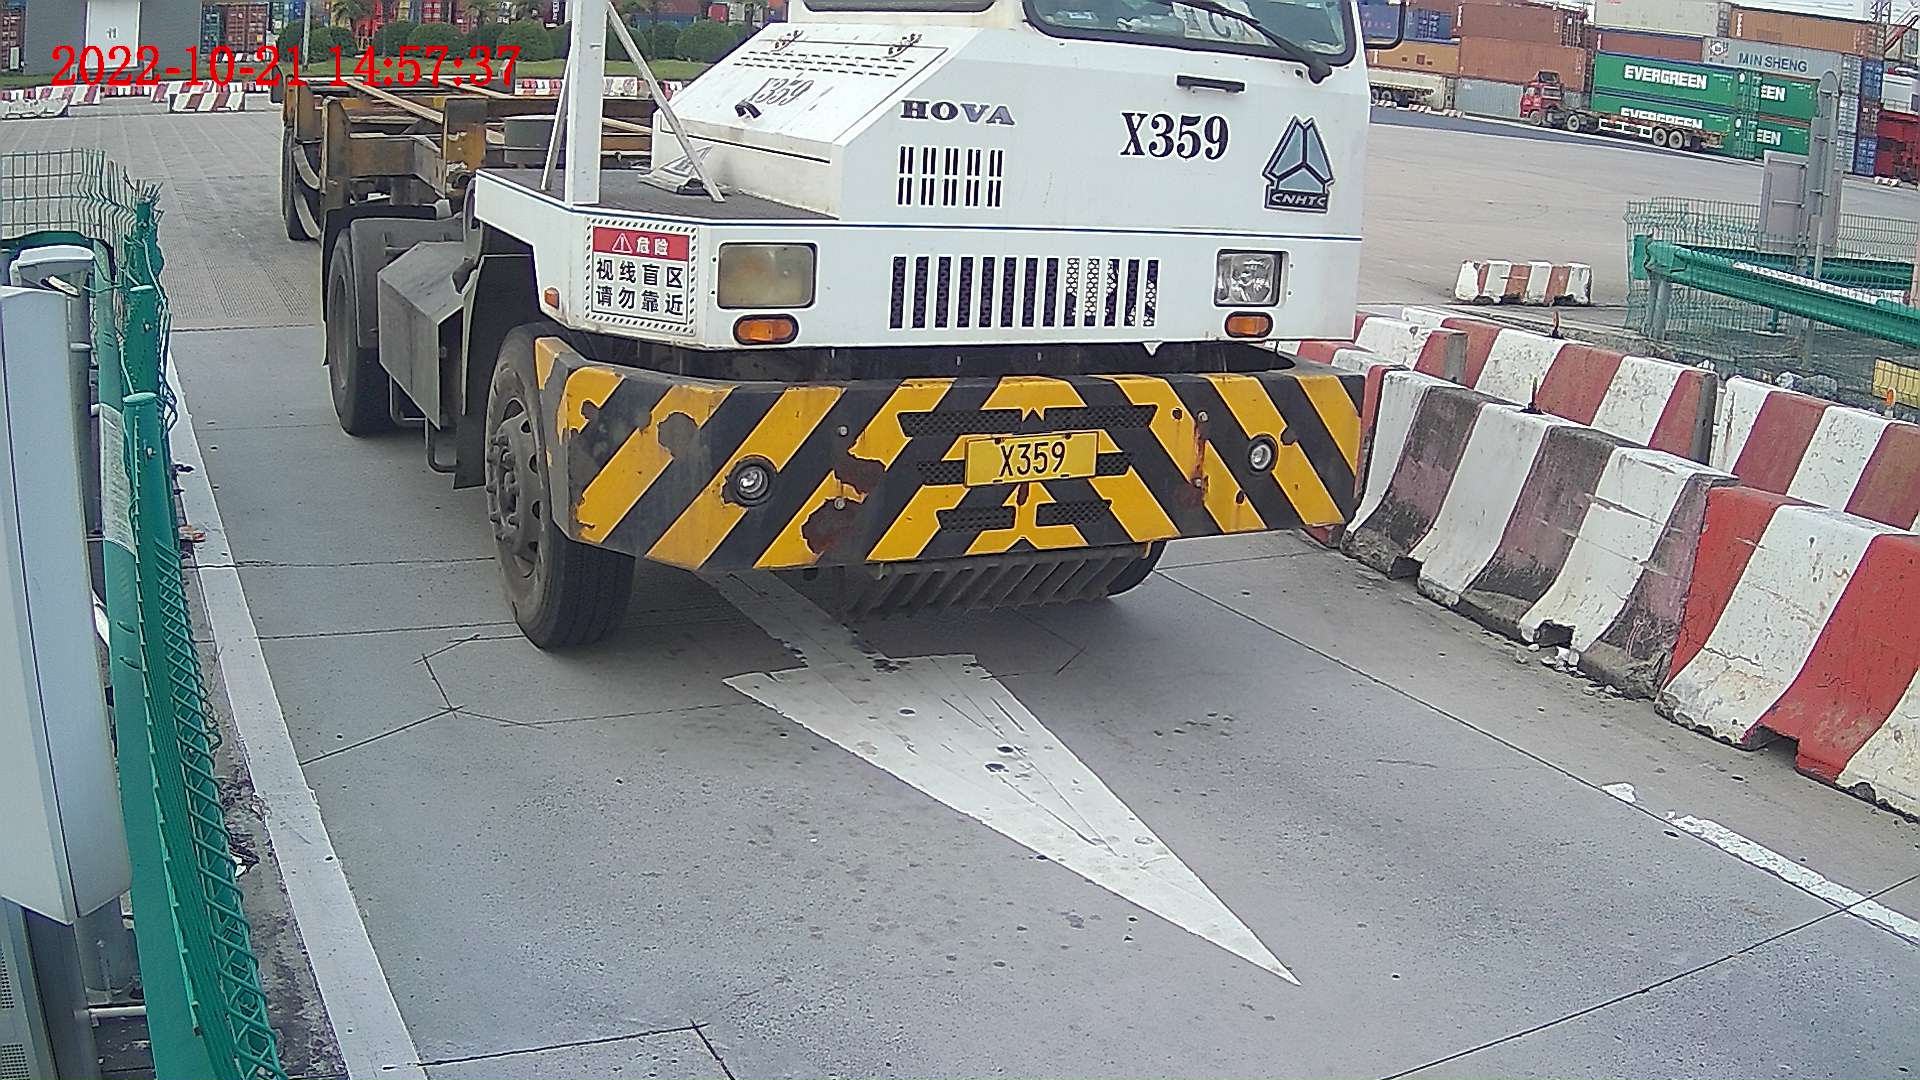head: (466, 1, 1374, 655)
plate: (966, 436, 1105, 480)
